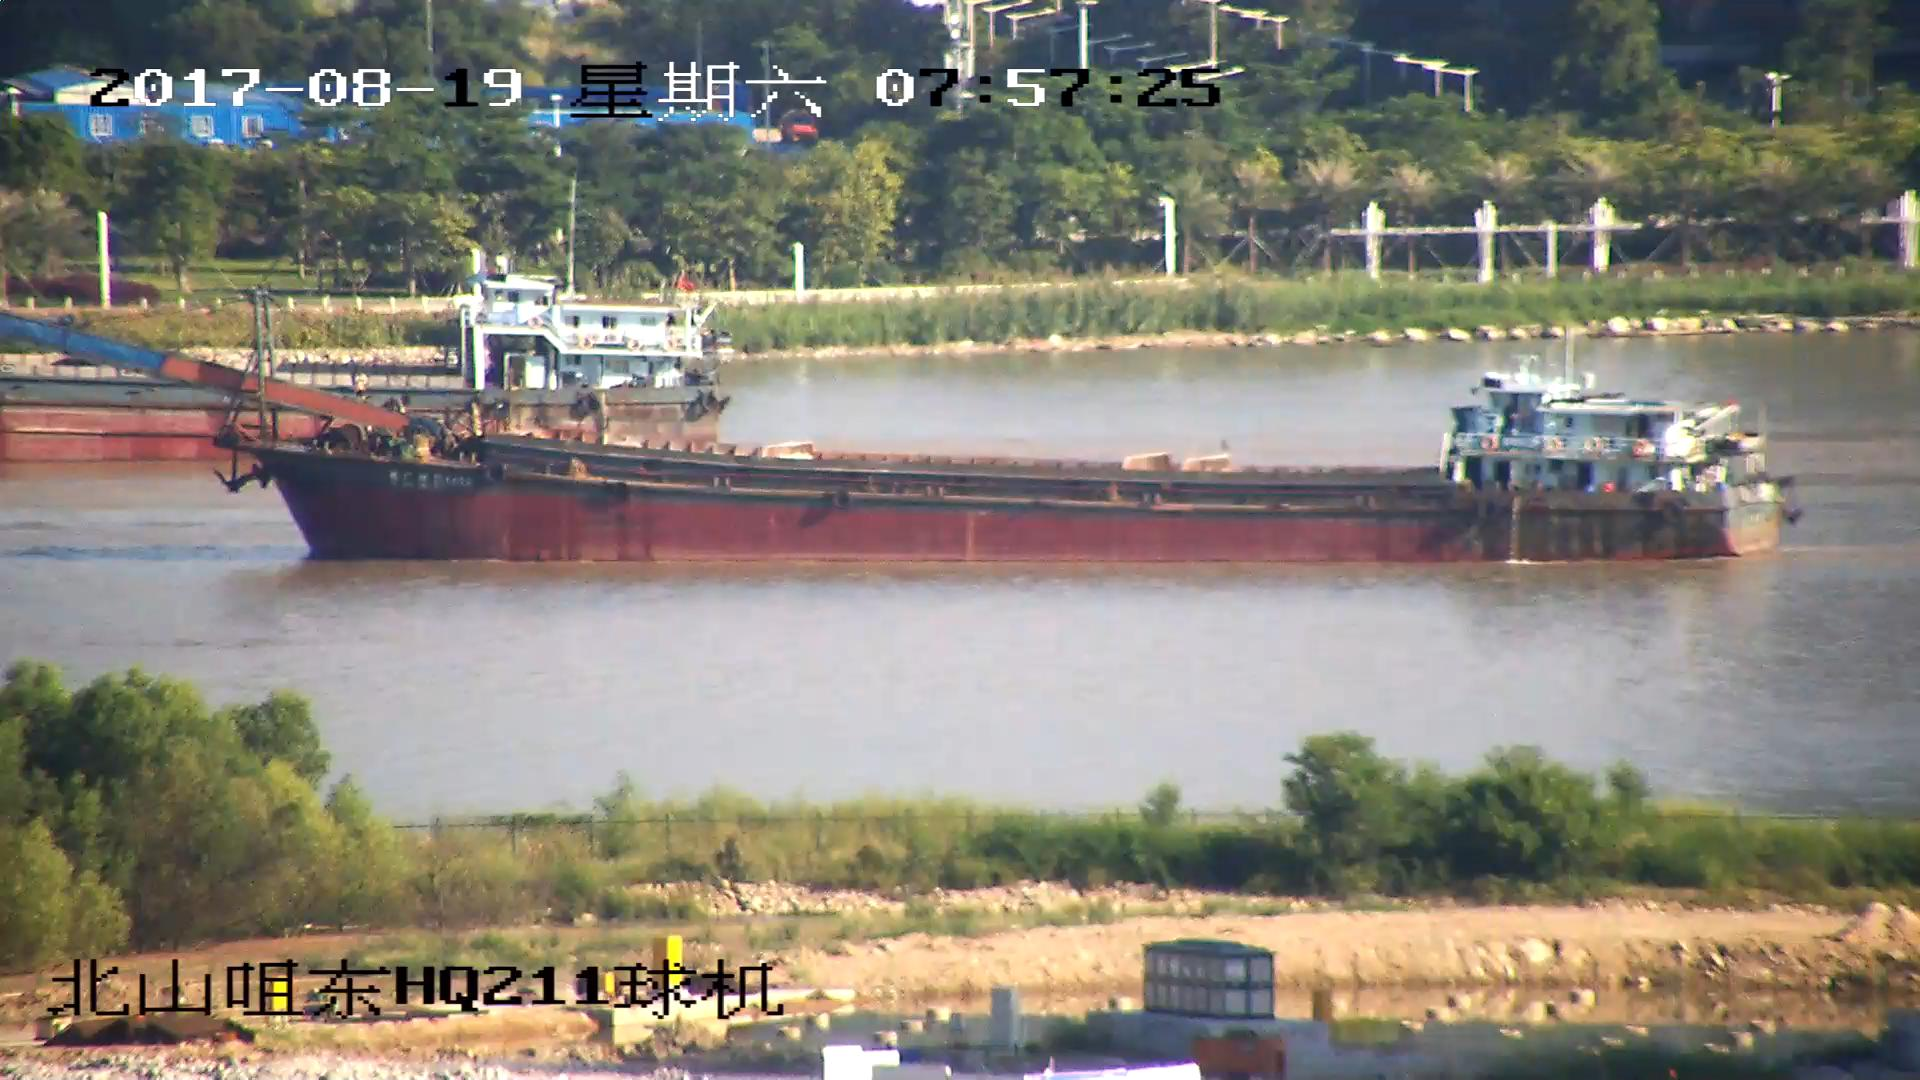bulk cargo carrier: (1, 311, 1792, 564), (1, 257, 727, 419)
